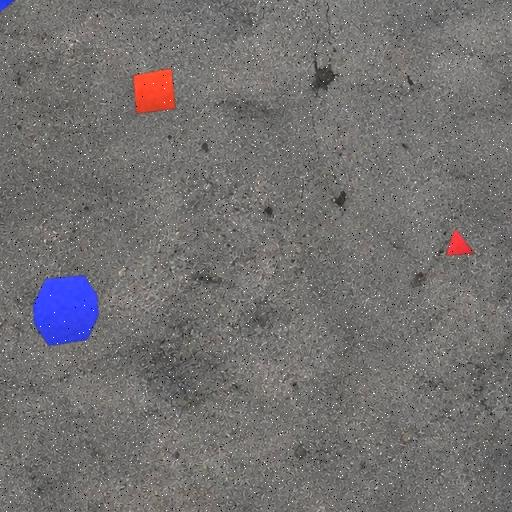RED_SQUARE: (132, 68, 177, 114)
